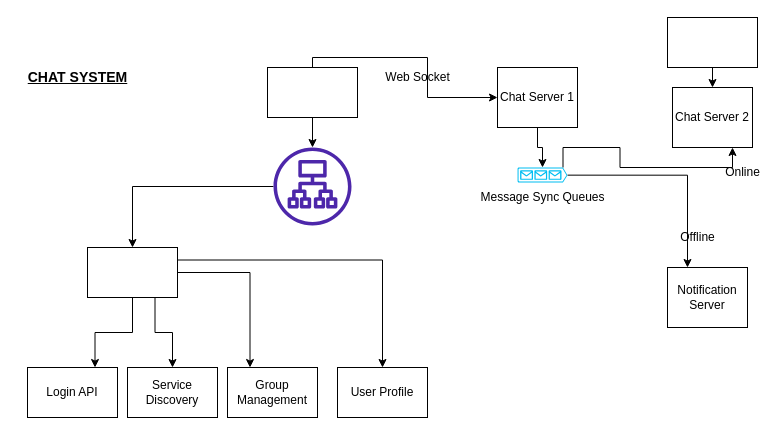
This 784x435 diagram has some shape labels left out. The shapes that lost their labels are listed below. From the top down, each one's centre as x and y in pixels, then its label:
At pixel 712 42: "Clients/User 2".
At pixel 312 92: "Clients/User 1".
At pixel 132 272: "API Servers".
